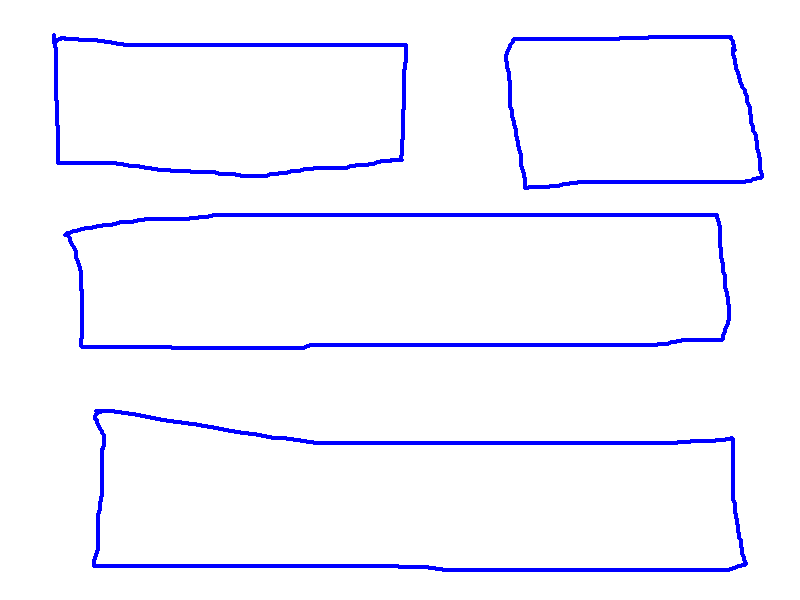rect: (86, 401, 752, 577), (64, 204, 735, 356), (48, 30, 415, 182), (502, 30, 769, 193)
